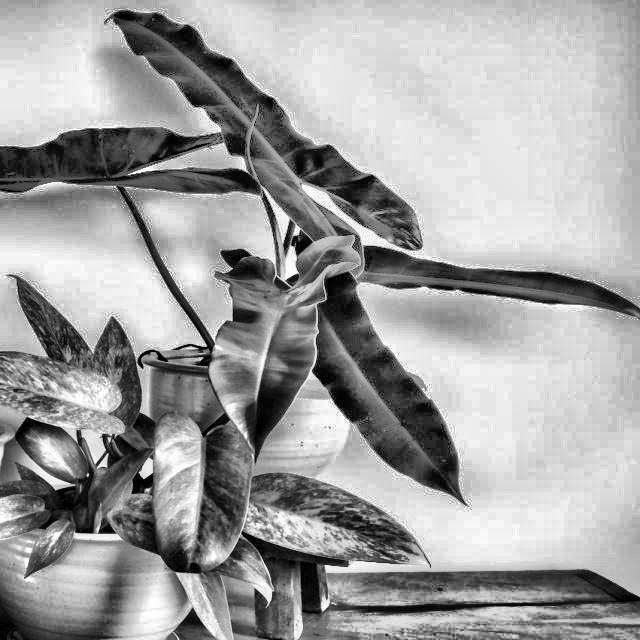plants: (203, 4, 640, 409), (0, 272, 203, 640)
